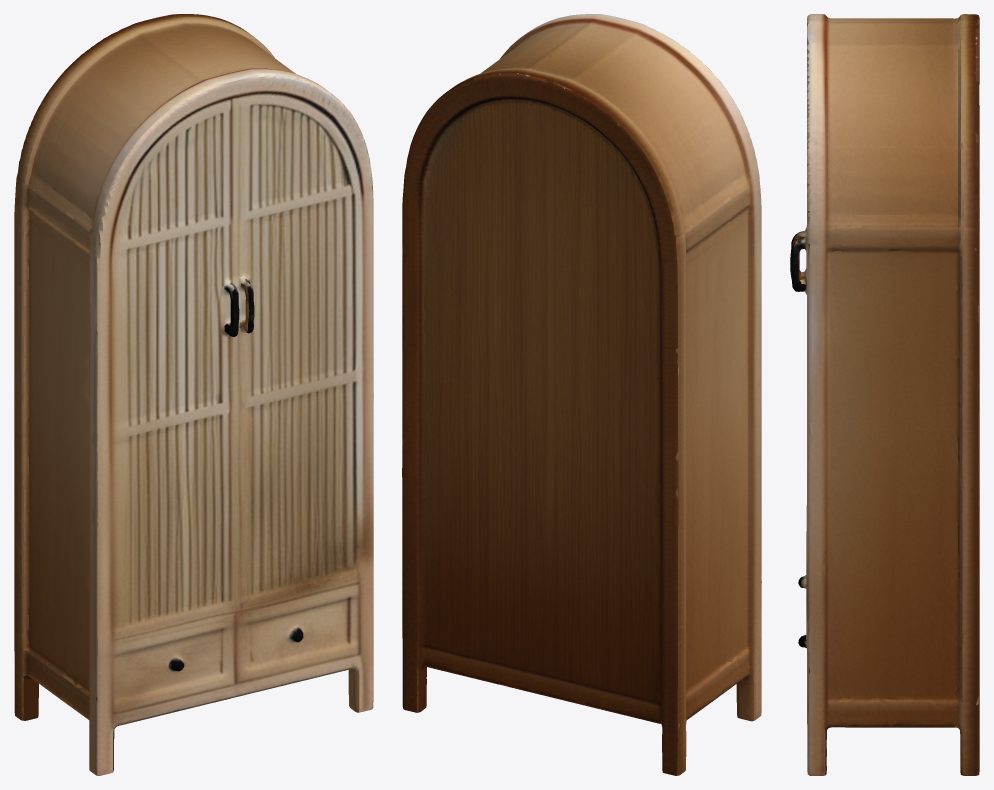
Rendered from wardrobe__wardrobe#5.glb.
3 views of the same model, side by side, from view 1: azimuth 30°, elevation 25°; view 2: azimuth 150°, elevation 25°; view 3: azimuth 270°, elevation 25° (orthographic).
Visible parts, largest first — view 1: tmp6tj1_980.ply; view 2: tmp6tj1_980.ply; view 3: tmp6tj1_980.ply.
Boxes of the visible parts, <box> form: tmp6tj1_980.ply: <box>14,14,373,775</box>; tmp6tj1_980.ply: <box>402,14,761,775</box>; tmp6tj1_980.ply: <box>790,14,979,775</box>.
Size of the model in its own units: 0.8692 by 1.99 by 0.5038.
1 material, 1 textured.
